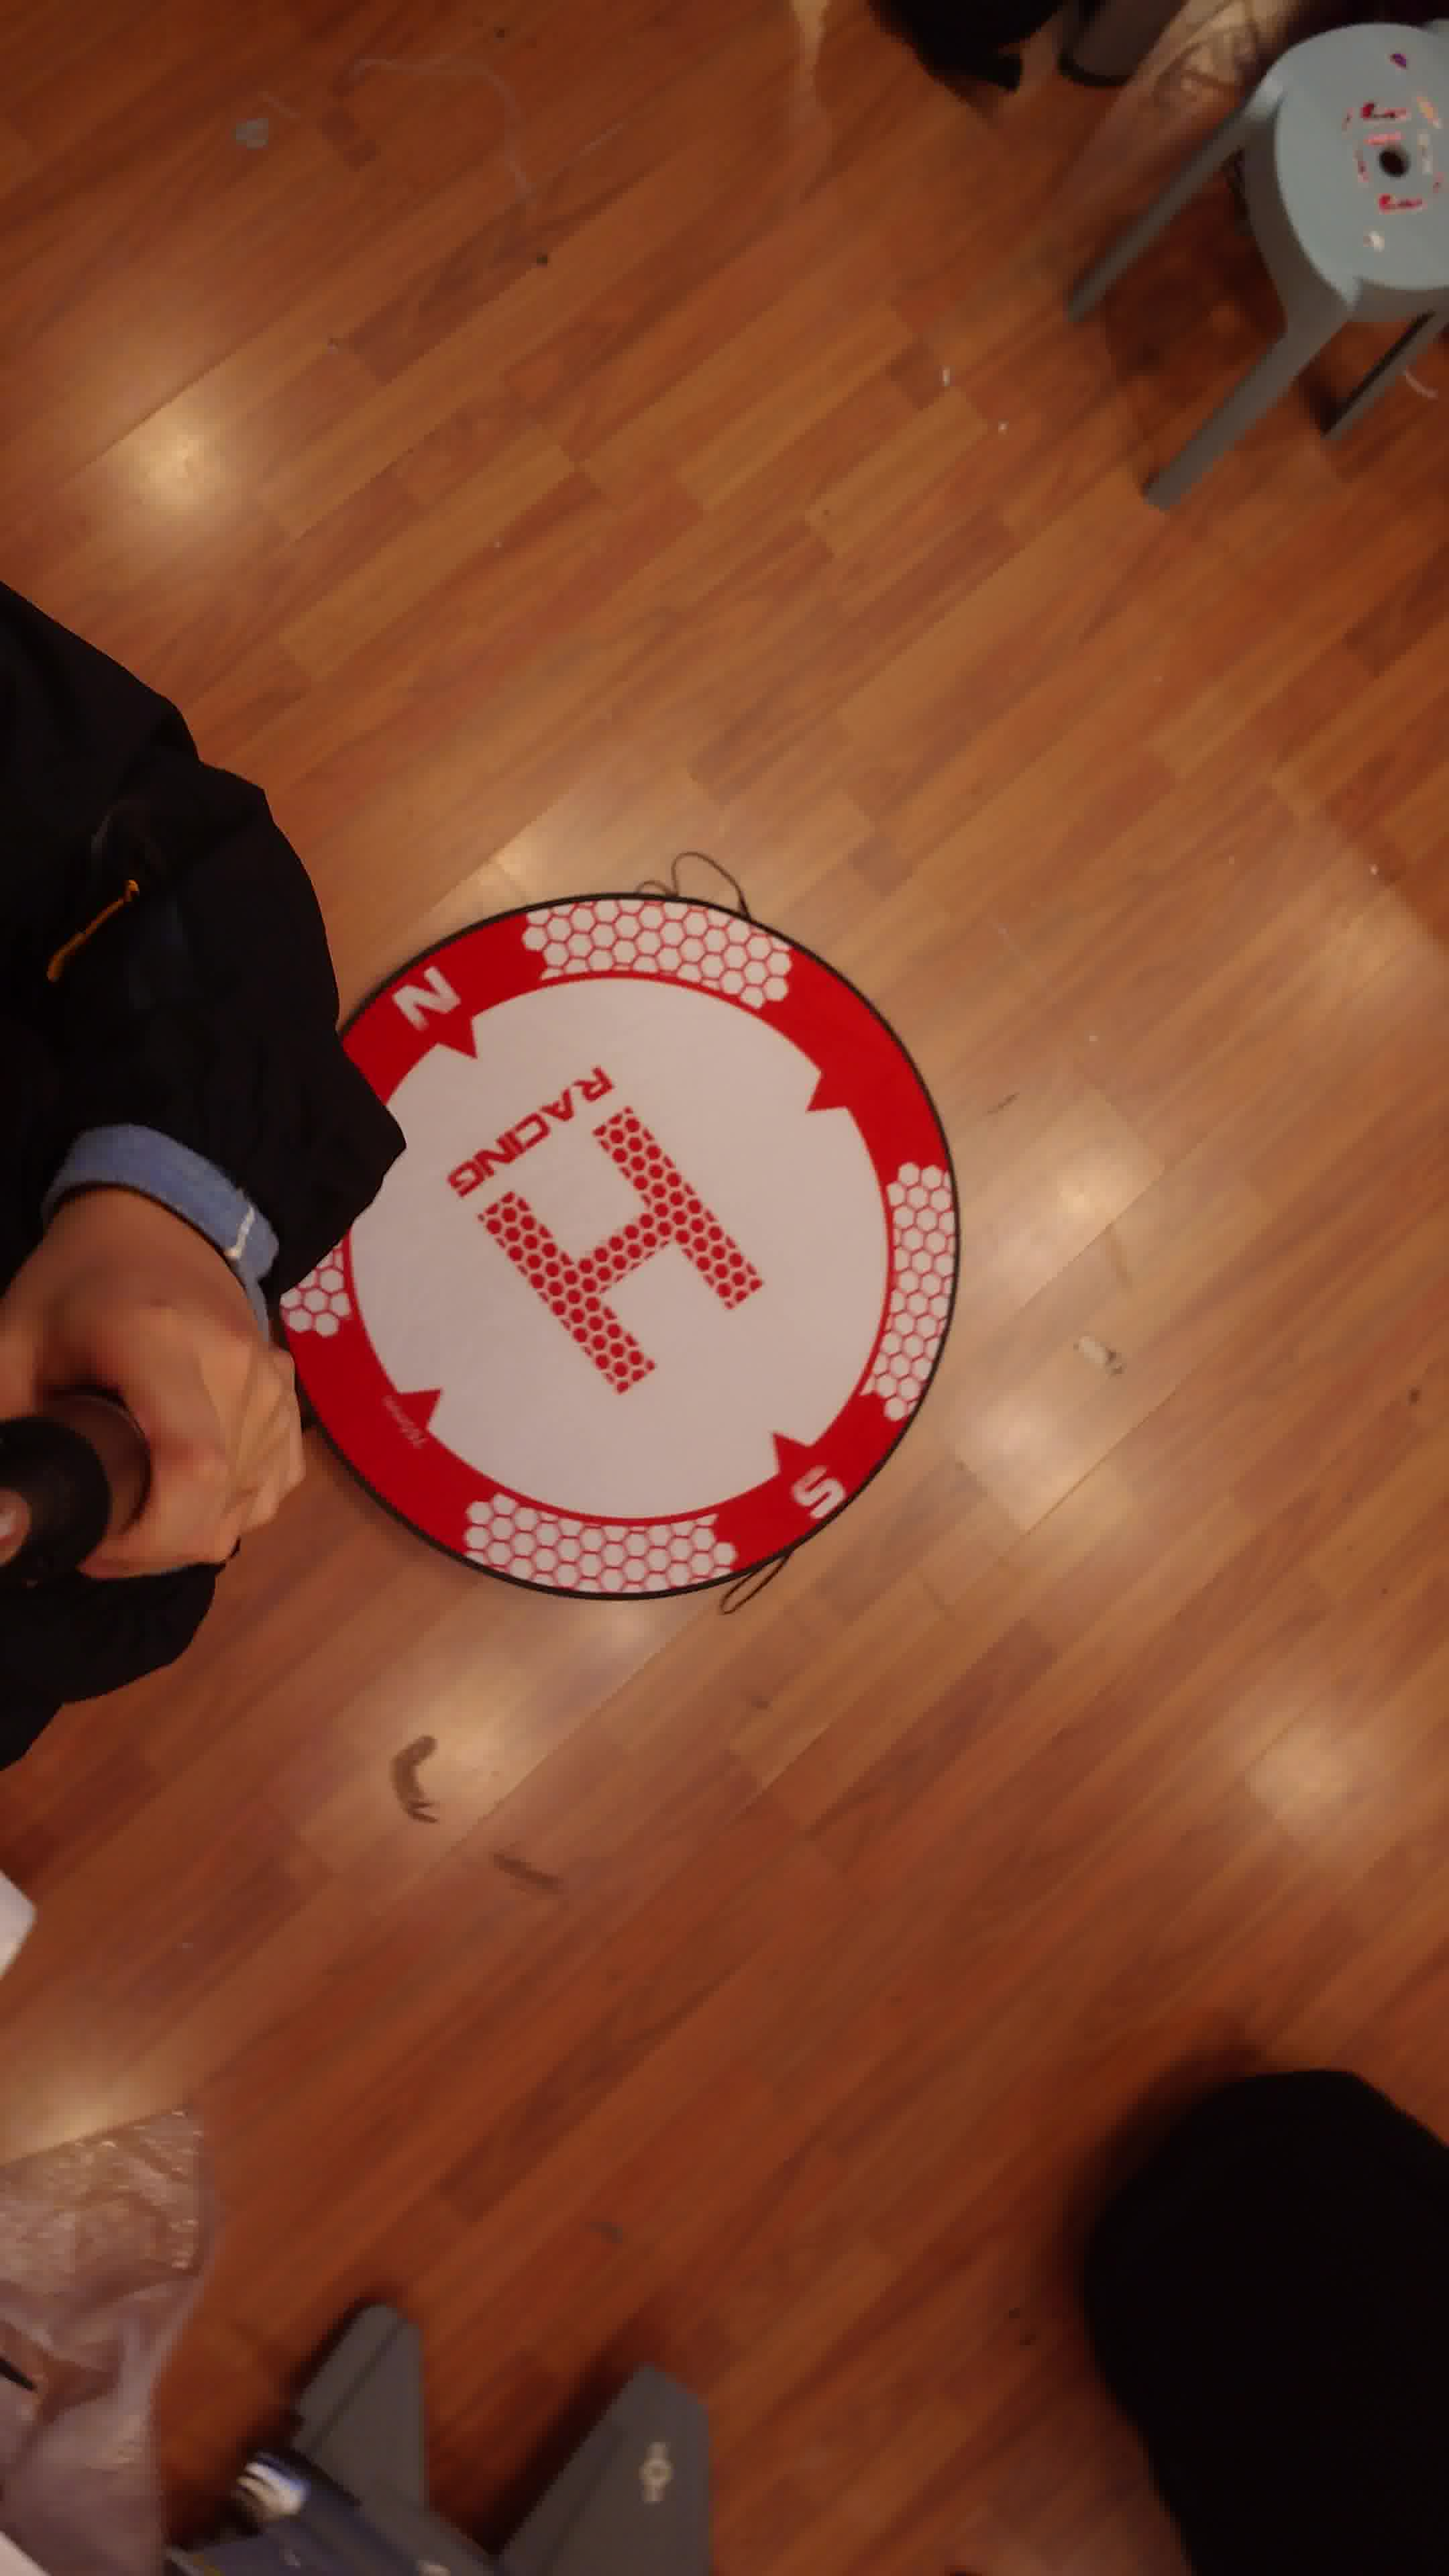H: (469, 1109, 768, 1399)
